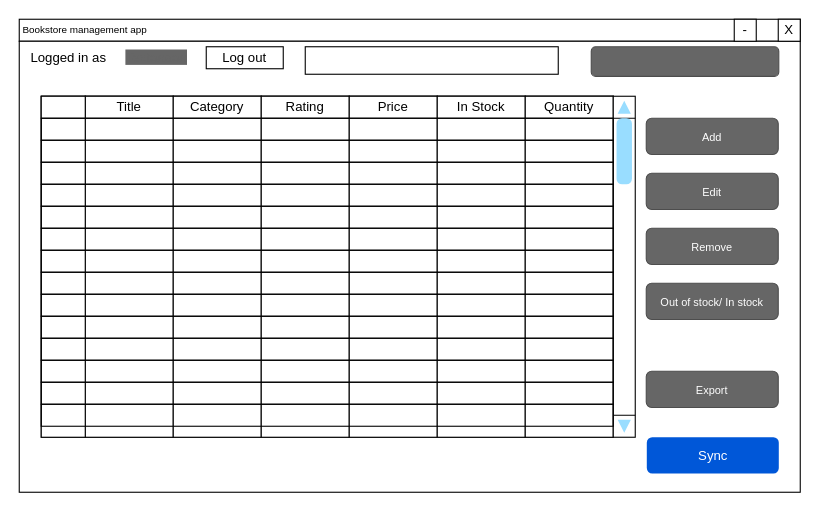
This 820x512 diagram has some shape labels left out. The shapes that lost their labels are listed below. From the top down, each one's centre as x and y in pixels, then its label:
point 431,60: Search
point 684,61: Mode: Manage
point 62,106: Id
